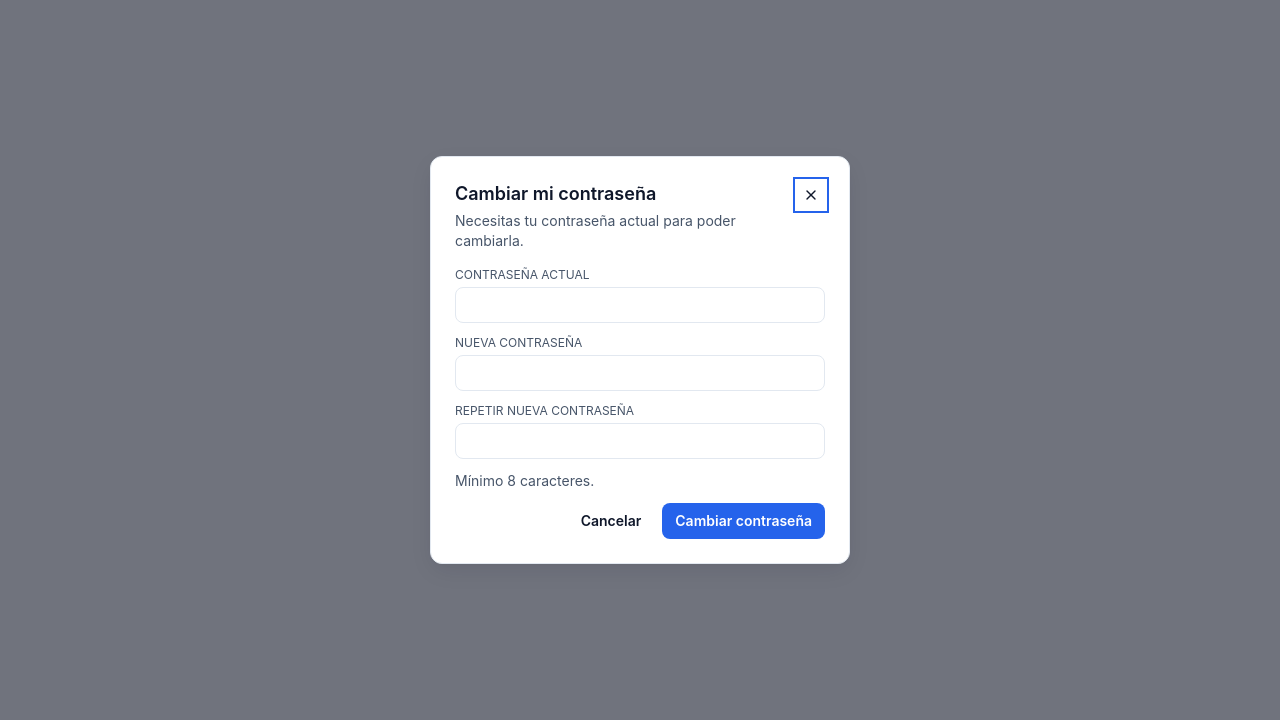
Test case: adversarial · la contraseña › el mensaje de error del servidor no se interpreta como HTML
The width and height of the screenshot is (1280, 720).
Type "actual-1234" into the password field labelled "Contraseña actual" at point(640, 305), box top-left (455, 287), bottom-right (825, 323)
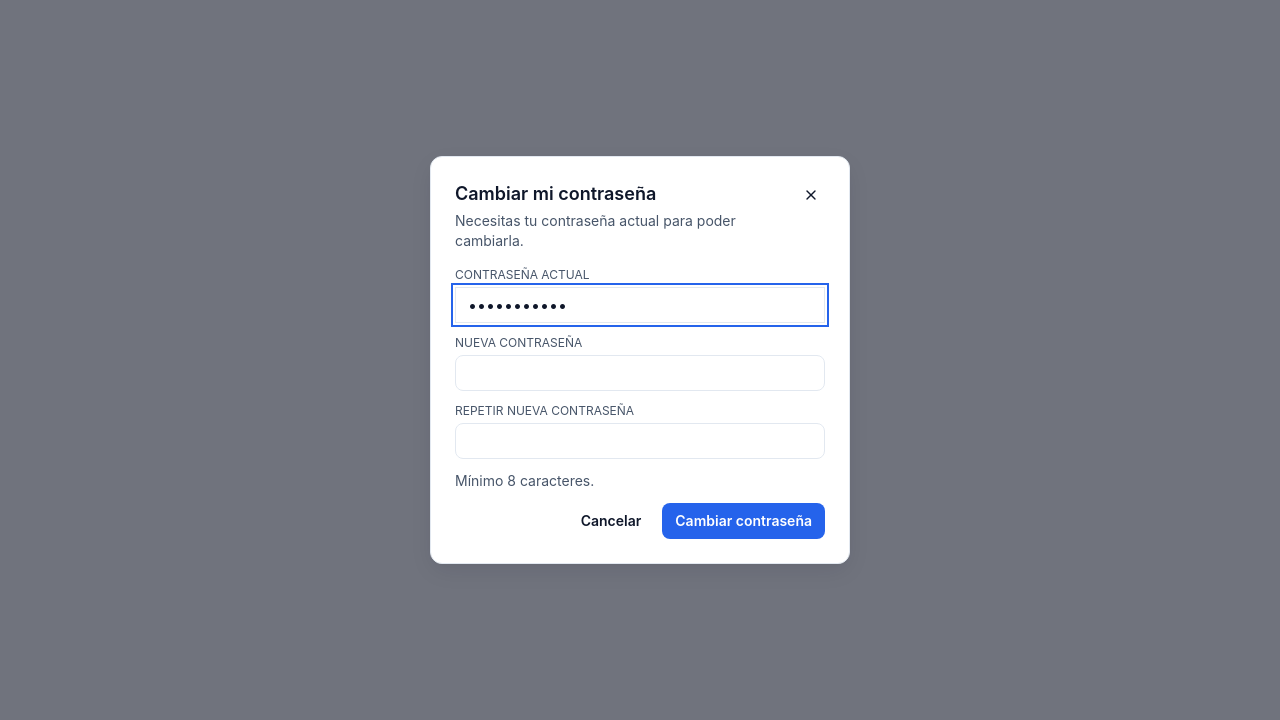
Type "nueva-12345" into the password field labelled "Nueva contraseña" at point(640, 373), box top-left (455, 355), bottom-right (825, 391)
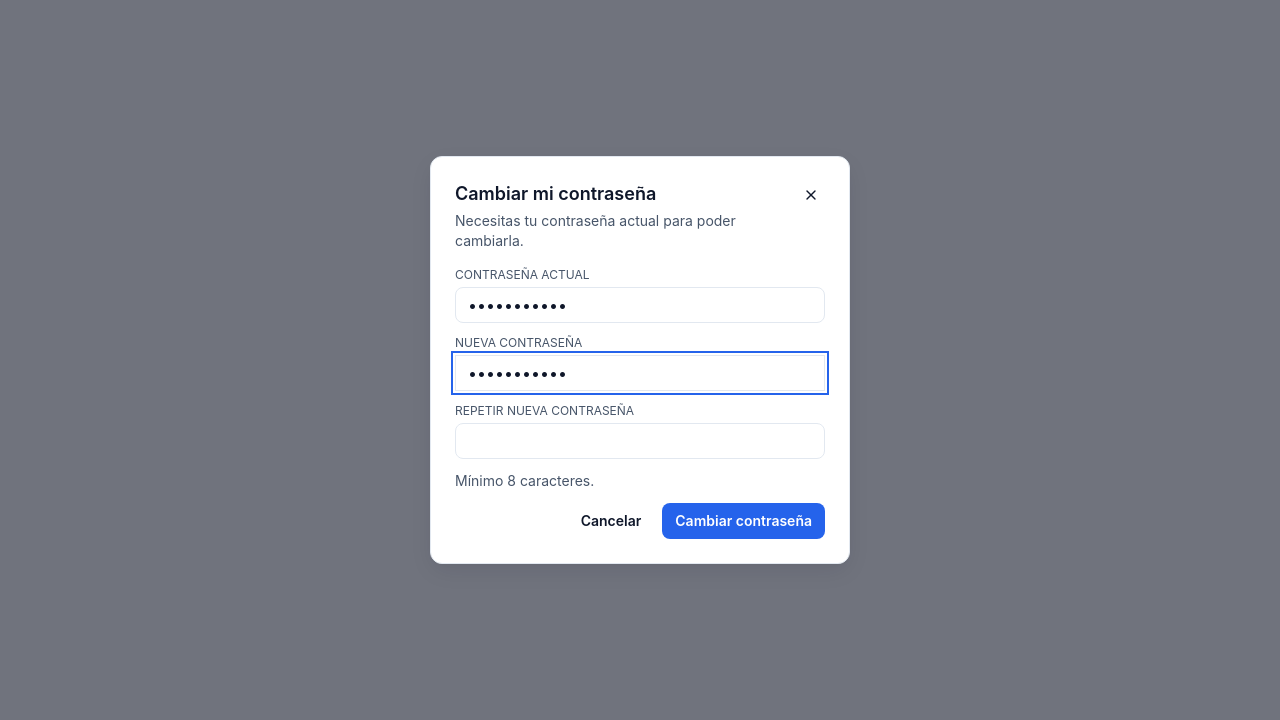
Type "nueva-12345" into the password field labelled "Repetir nueva contraseña" at point(640, 441), box top-left (455, 423), bottom-right (825, 459)
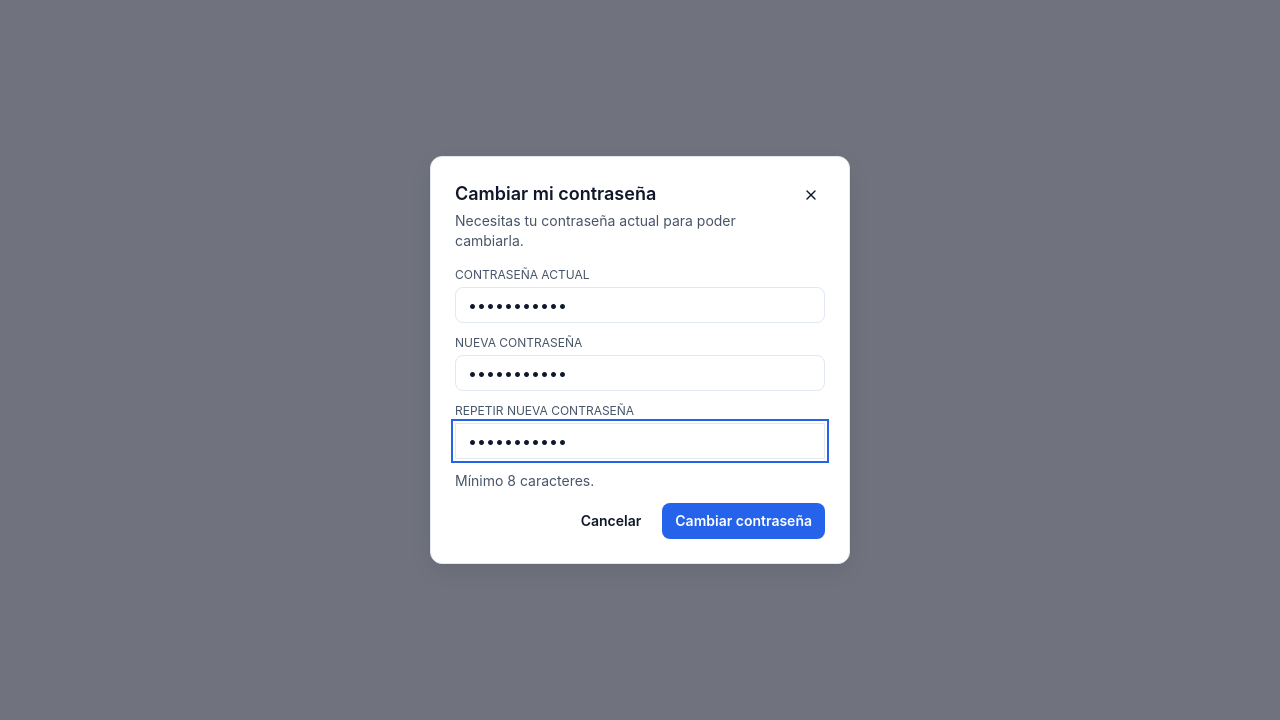
Click the button "Cambiar contraseña" at point(744, 521), box top-left (662, 503), bottom-right (825, 539)
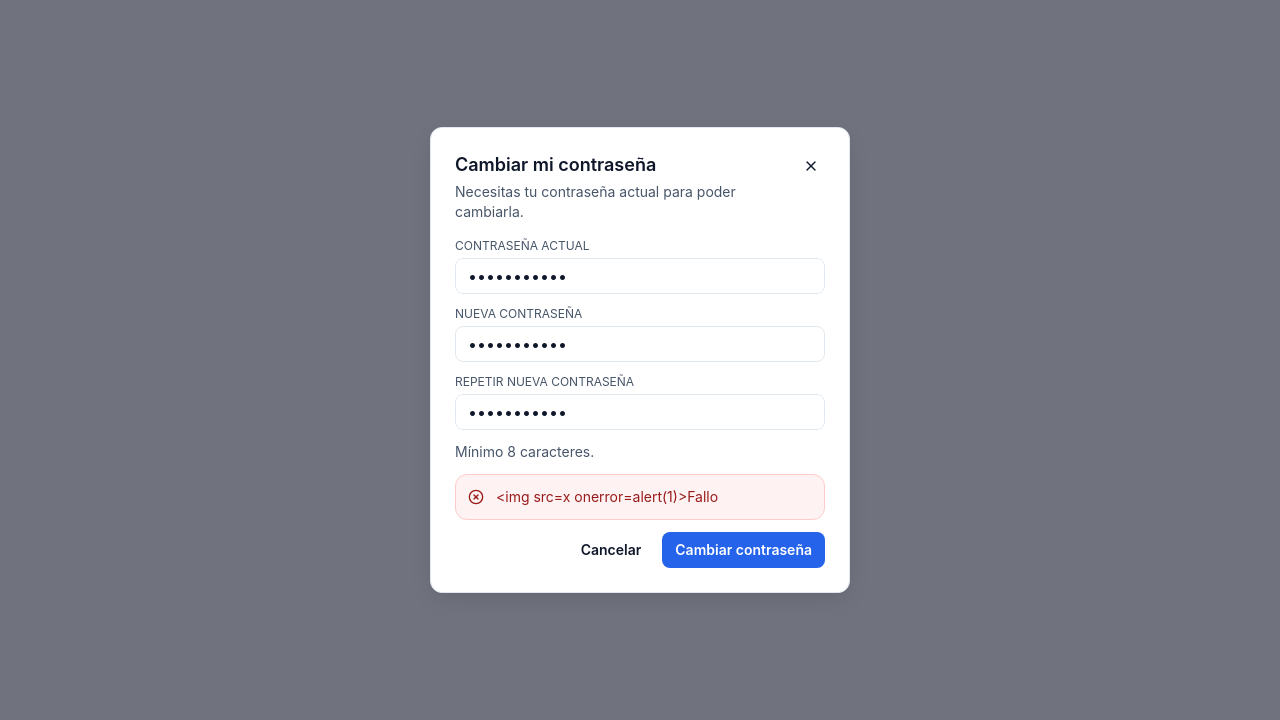
Expected: the message shows "Fallo", top-left (496, 488), bottom-right (718, 505)
